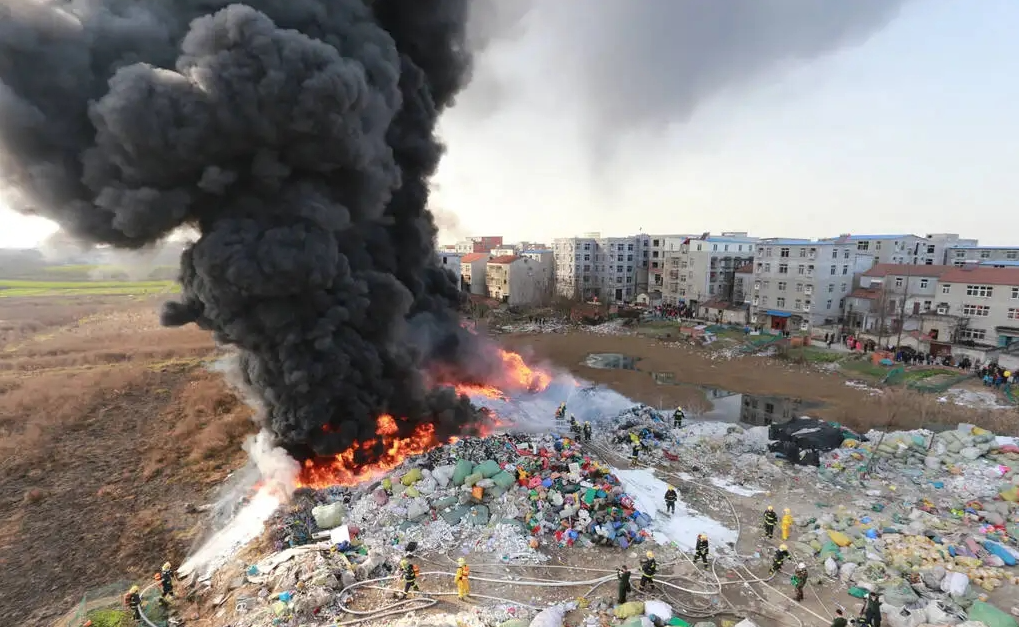喷灌水雾: (175, 477, 284, 580), (506, 415, 572, 435)
